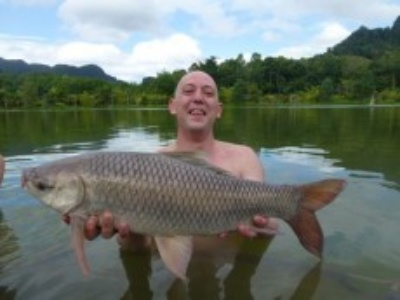rohu: (20, 149, 349, 271)
